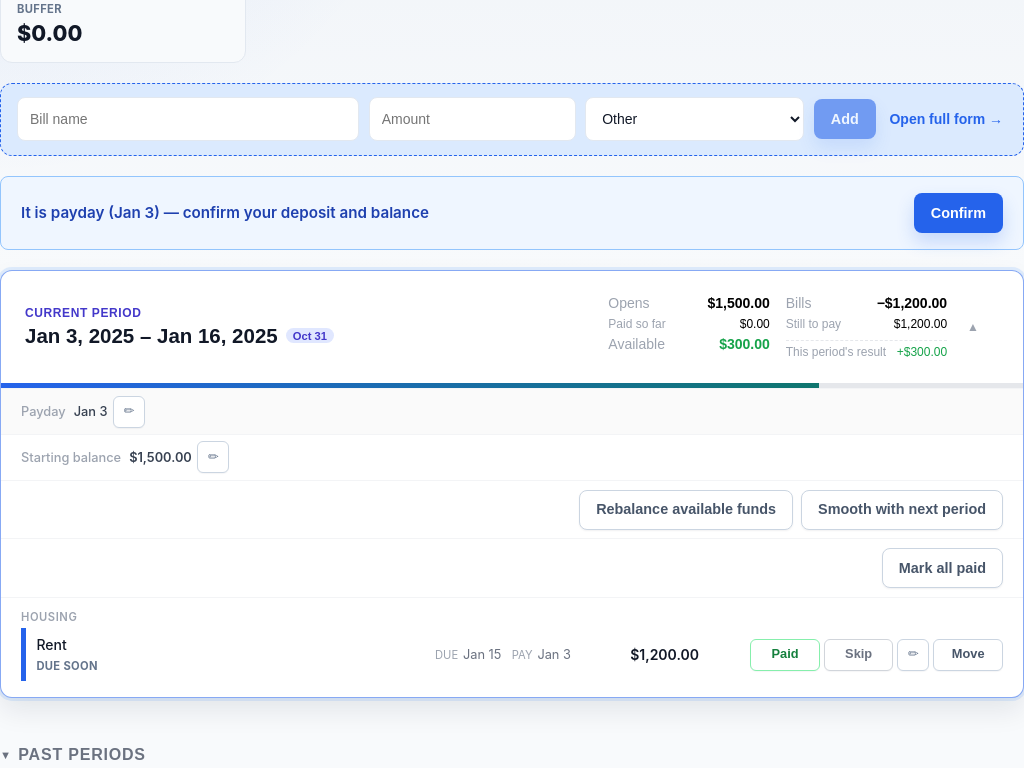
Test: Dashboard — edit bill modal › opens the edit modal when Edit bill is clicked on a BillRow
(page scrolled)
Step 1. Click the button named "edit bill rent" → (913, 655), box [897,639,929,671]
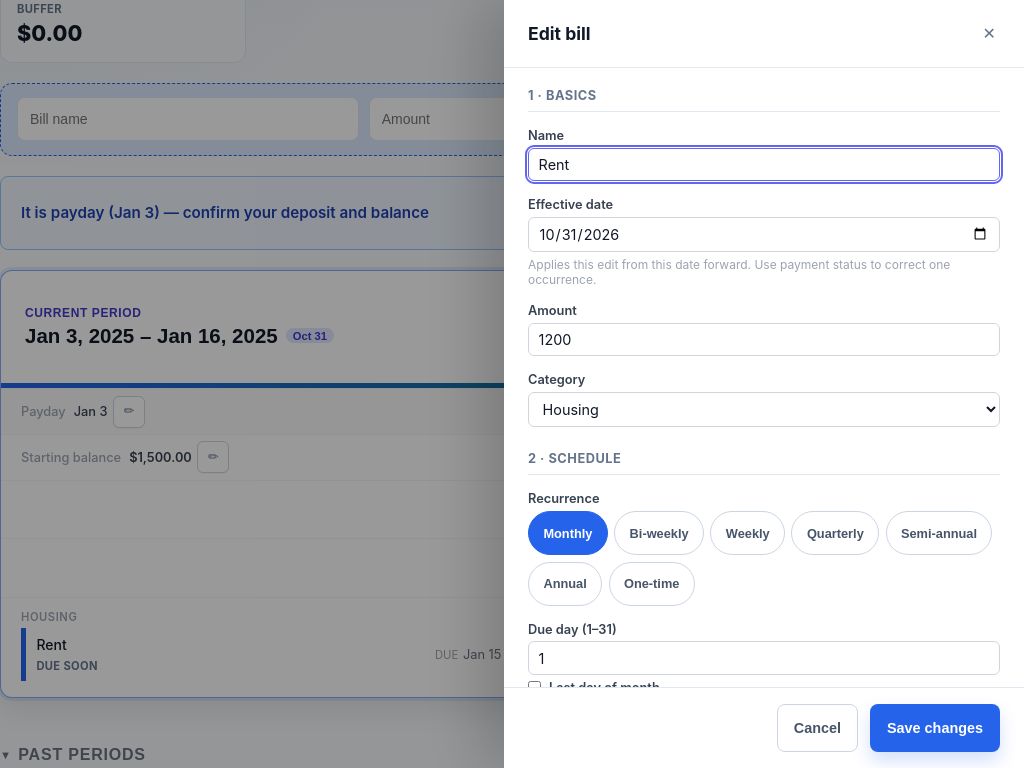
Now the heading "Edit bill" is shown, box [528,23,591,44]
